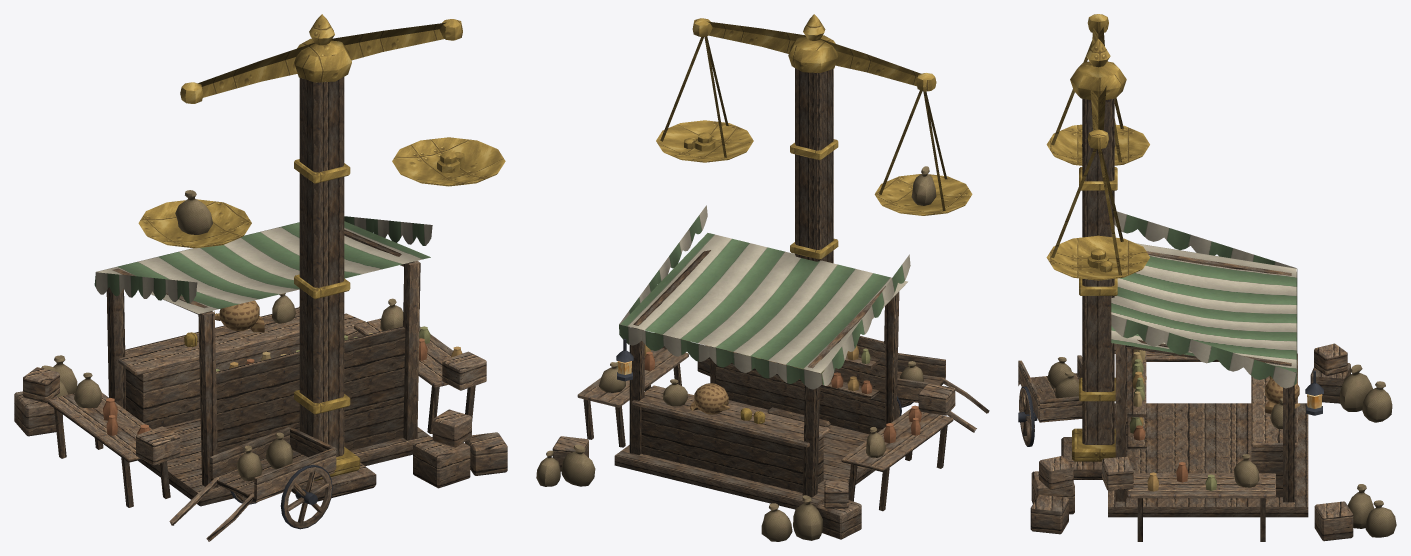
The model's file is neutral_weighstall.glb.
The picture shows the model from 3 angles, left to right: view 1: azimuth 30°, elevation 25°; view 2: azimuth 150°, elevation 25°; view 3: azimuth 270°, elevation 25°; orthographic projection. The views are drawn at different scales.
Visible parts, largest first — view 1: neutral_weighstall, balance_beam, balance_pan_l, balance_pan_r, shopkeeper; view 2: neutral_weighstall, balance_pan_l, balance_pan_r, balance_beam, shopkeeper; view 3: neutral_weighstall, balance_pan_r, balance_pan_l, balance_beam, shopkeeper.
Part boxes in pixels (x1,y1,x2,y2): neutral_weighstall: (14, 14, 507, 541); balance_beam: (180, 19, 462, 103); balance_pan_l: (138, 190, 251, 248); balance_pan_r: (392, 137, 505, 186); shopkeeper: (214, 300, 264, 332); neutral_weighstall: (536, 14, 989, 541); balance_pan_l: (874, 90, 972, 215); balance_pan_r: (656, 36, 753, 162); balance_beam: (692, 18, 936, 91); shopkeeper: (690, 383, 729, 414); neutral_weighstall: (1018, 38, 1396, 541); balance_pan_r: (1046, 148, 1149, 280); balance_pan_l: (1046, 40, 1149, 165); balance_beam: (1087, 14, 1108, 149); shopkeeper: (1265, 377, 1300, 413).
Size of the model in its own units: 5.8 by 7.35 by 5.86.
Materials: 3 (3 with a texture image).
